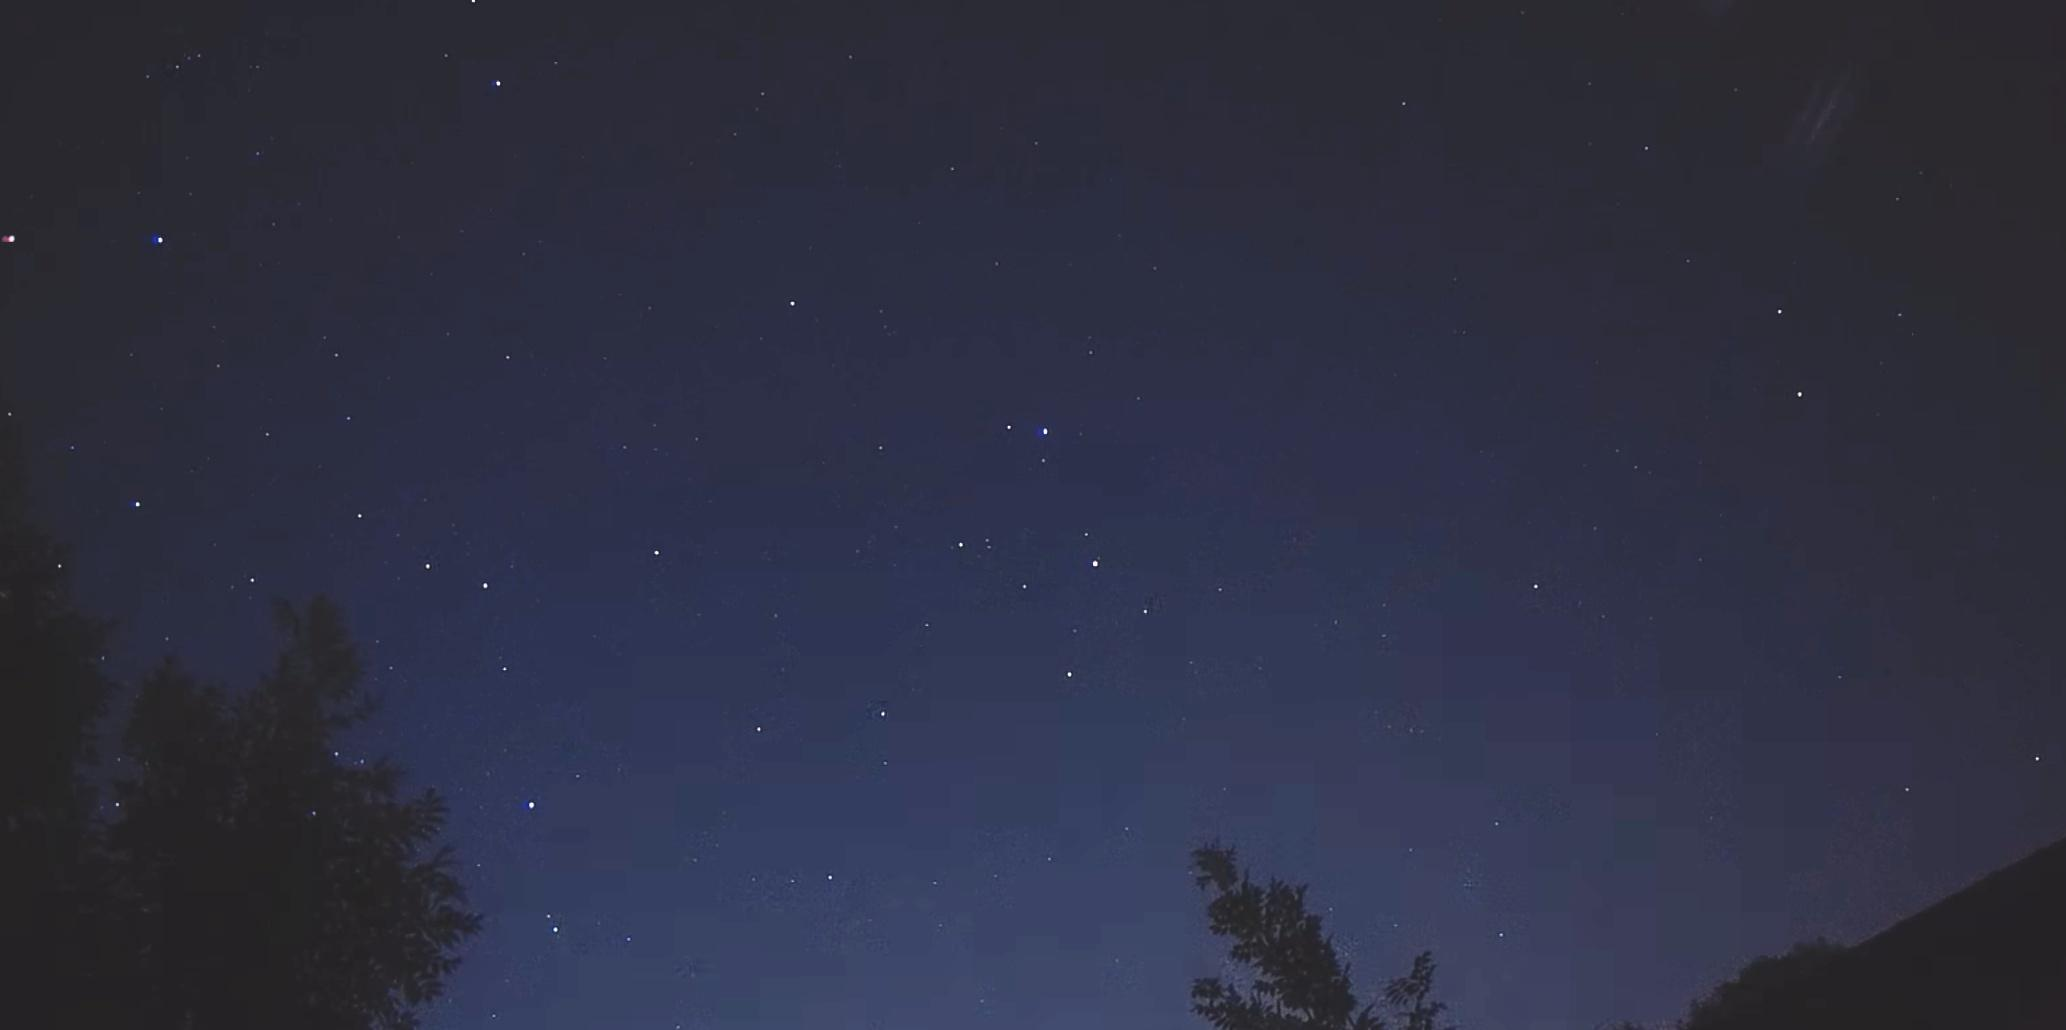Plane: (0, 223, 43, 256)
